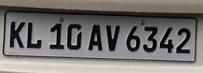0: (66, 23, 82, 50)
1: (49, 22, 65, 50)
2: (175, 26, 191, 55)
3: (142, 25, 158, 53)
4: (159, 26, 175, 53)
6: (126, 25, 141, 53)
A: (88, 24, 103, 52)
K: (8, 20, 26, 49)
L: (26, 20, 43, 50)
V: (105, 25, 122, 52)
